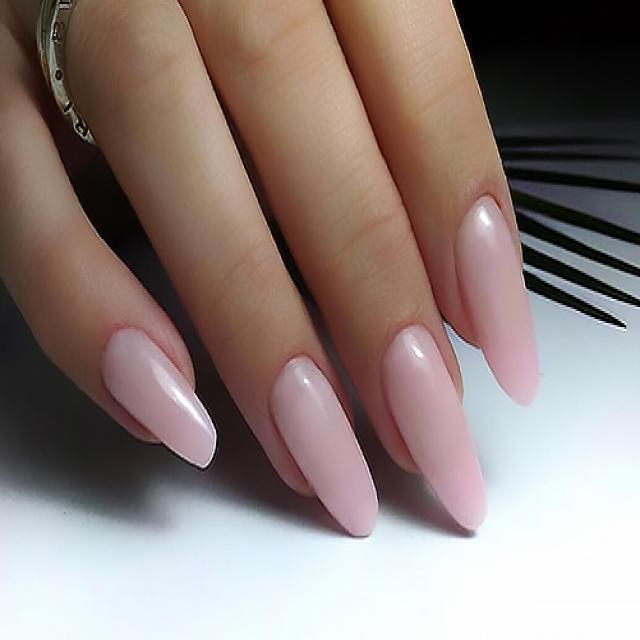Nail: (380, 324, 485, 529), (270, 356, 378, 536), (454, 195, 538, 403), (102, 330, 215, 467)
